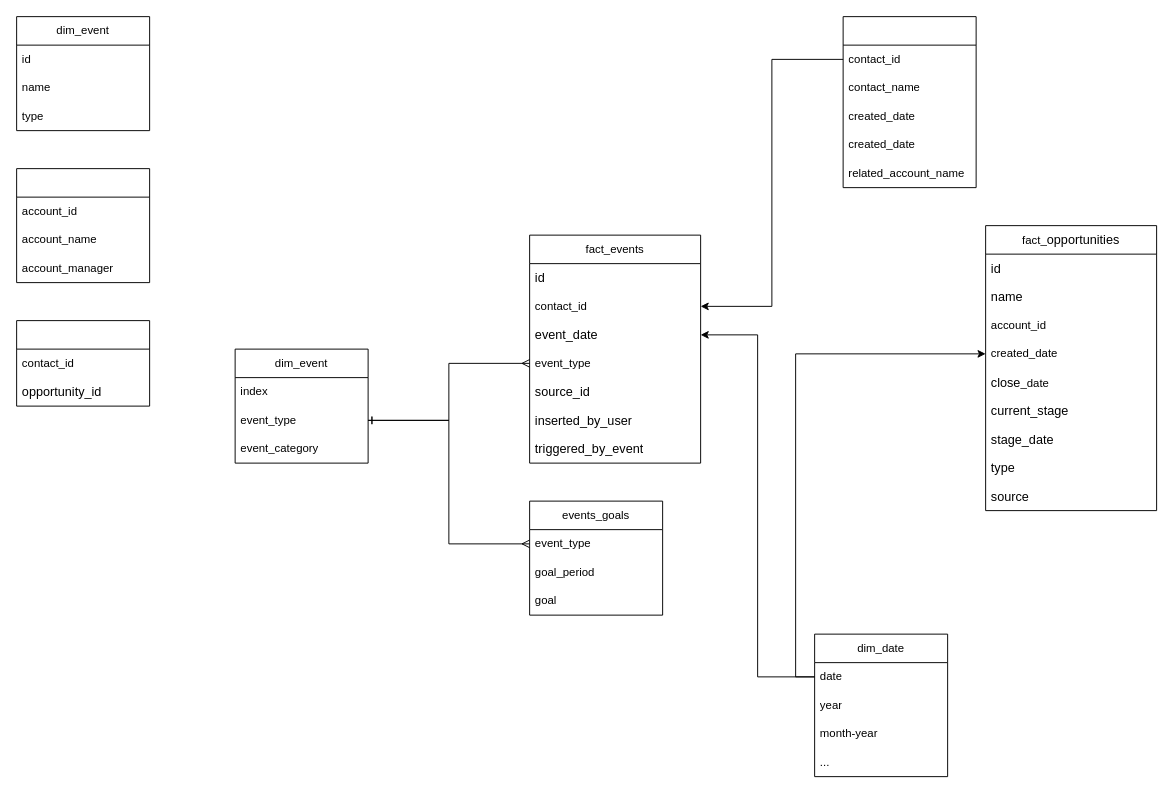
Image size: 1173x793. Some labels were removed from this diagram. Each missing label, with the box of its shape:
contact_to_ opportunity: (16, 320, 150, 406)
dim_account: (16, 168, 150, 283)
dim_contact: (842, 16, 976, 188)
